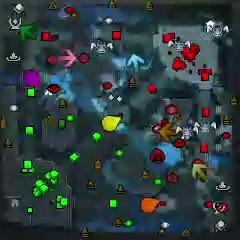p3: (22, 68, 43, 88)
p4: (102, 115, 121, 132)
p5: (140, 196, 160, 213)
x1: (58, 48, 76, 68)
x2: (192, 163, 207, 180)
x3: (127, 54, 144, 72)
x4: (19, 24, 36, 40)
x5: (160, 122, 177, 140)
